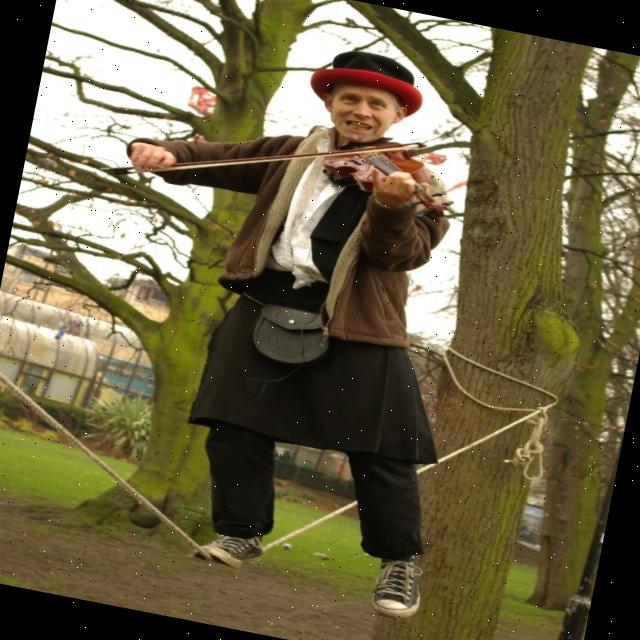violin: (316, 125, 470, 222)
